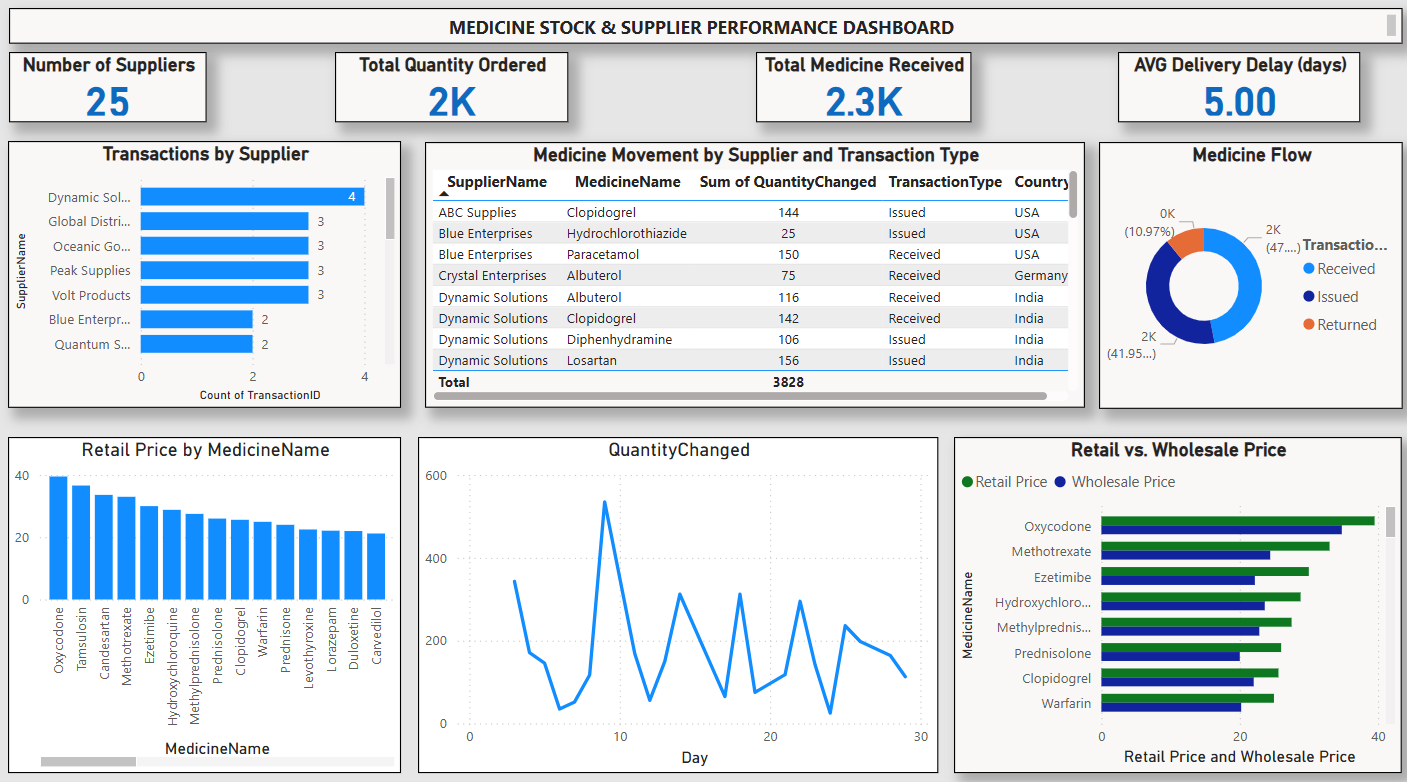

Layout of this report page (visuals, bound fields, positions):
{"tool":"powerbi","page":{"name":"BP_3_MedicineStock&SupplierPerformance","canvas":[1280,720],"ordinal":4},"visuals":[{"type":"textbox","box":[16,16,1248,32],"z":0},{"type":"card","title":"Total Medicine Received","fields":{"Values":["Calculations.Total Medicine Received"]},"box":[684.7,55.4,192.6,63.2],"z":1000},{"type":"card","title":"Number of Suppliers","fields":{"Values":["Calculations.Number of Suppliers"]},"box":[16.5,55.4,177,63.2],"z":2000},{"type":"clusteredBarChart","title":"Transactions by Supplier","fields":{"Category":["DIM_Supplier.SupplierName"],"Y":["CountNonNull(FACT_INVENTORYTRANSACTION.TransactionID)"]},"box":[15.6,135.2,352.1,239.3],"z":3000},{"type":"tableEx","title":"Medicine Movement by Supplier and Transaction Type","fields":{"Values":["DIM_Supplier.SupplierName","DIM_Medicine.MedicineName","Sum(FACT_INVENTORYTRANSACTION.QuantityChanged)","FACT_INVENTORYTRANSACTION.TransactionType","DIM_Supplier.Country"]},"box":[389.1,136.2,591.4,238.3],"z":4000},{"type":"card","title":"AVG Delivery Delay (days)","fields":{"Values":["Calculated Measures.AvgDeliveryDelay"]},"box":[1009.6,55.4,216.9,63.2],"z":5000},{"type":"clusteredBarChart","title":"Retail vs. Wholesale Price","fields":{"Category":["DIM_Medicine.MedicineName"],"Y":["Avg(DIM_Medicine.RetailPrice)","Avg(DIM_Medicine.WholesalePrice)"]},"box":[862.7,400.7,400.7,300.5],"z":6000},{"type":"card","title":"Total Quantity Ordered","fields":{"Values":["FACT_INVENTORYTRANSACTION.Total Quantity Ordered"]},"box":[308.3,55.4,209.1,63.2],"z":7000},{"type":"donutChart","title":"Medicine Flow","fields":{"Category":["FACT_INVENTORYTRANSACTION.TransactionType"],"Y":["Sum(FACT_INVENTORYTRANSACTION.QuantityChanged)"]},"box":[992.1,136.2,272.3,239.3],"z":8000},{"type":"clusteredColumnChart","title":"Retail Price by MedicineName","fields":{"Category":["DIM_Medicine.MedicineName"],"Y":["Sum(DIM_Medicine.RetailPrice)"]},"box":[15.6,400.7,352.1,300.5],"z":9000},{"type":"lineChart","title":"QuantityChanged ","fields":{"Category":["DIM_Date.Date.Variation.Date Hierarchy.Day"],"Y":["Sum(FACT_INVENTORYTRANSACTION.QuantityChanged)"]},"box":[382.2,400.7,465.9,300.5],"z":10000}]}

Visuals, with their boxes in screenshot pixels (x1, y1, x2, y2), scaled from the page's 1280x720 canvas onto the 1407x782 screenshot:
textbox: region(18, 17, 1389, 52)
"Total Medicine Received" card: region(753, 60, 964, 129)
"Number of Suppliers" card: region(18, 60, 213, 129)
"Transactions by Supplier" clusteredBarChart: region(17, 147, 404, 407)
"Medicine Movement by Supplier and Transaction Type" tableEx: region(428, 148, 1078, 407)
"AVG Delivery Delay (days)" card: region(1110, 60, 1348, 129)
"Retail vs. Wholesale Price" clusteredBarChart: region(948, 435, 1389, 762)
"Total Quantity Ordered" card: region(339, 60, 569, 129)
"Medicine Flow" donutChart: region(1091, 148, 1390, 408)
"Retail Price by MedicineName" clusteredColumnChart: region(17, 435, 404, 762)
"QuantityChanged " lineChart: region(420, 435, 932, 762)
